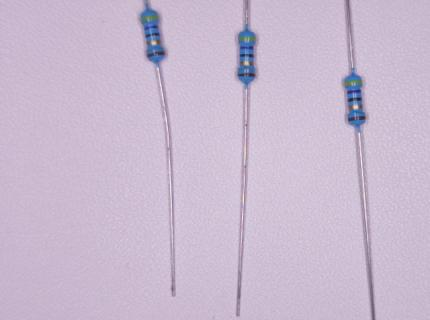Black band: (145, 33, 160, 39), (348, 97, 362, 102), (240, 54, 254, 57)
Brown band: (147, 51, 165, 58), (348, 116, 366, 121), (238, 73, 255, 77)
Gold band: (147, 39, 161, 46), (349, 104, 363, 110), (240, 61, 253, 66)
Violet band: (144, 25, 158, 30), (347, 89, 361, 94), (240, 46, 253, 50)
Yellow band: (141, 15, 159, 21), (345, 81, 362, 86), (238, 37, 256, 41)
